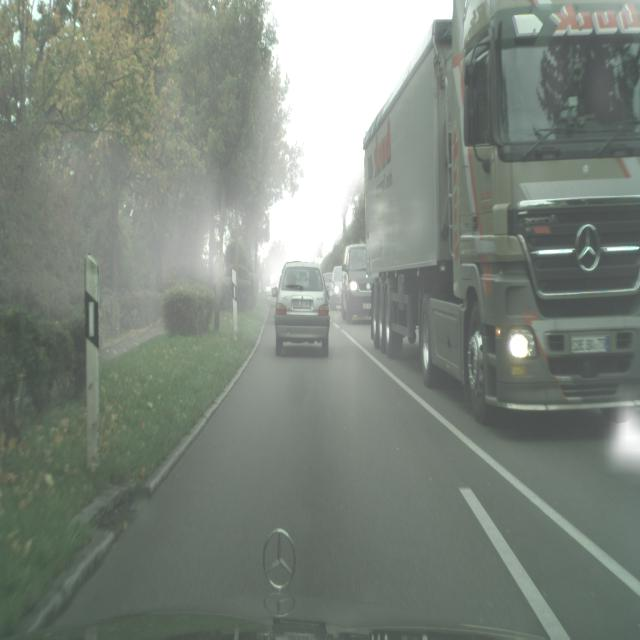car: (363, 2, 639, 429), (339, 242, 372, 324)
person: (274, 261, 331, 358), (340, 242, 372, 323), (330, 266, 344, 309)
